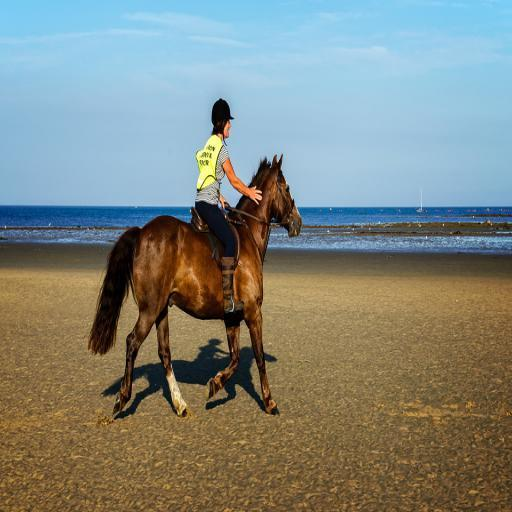horse: (86, 154, 302, 418)
